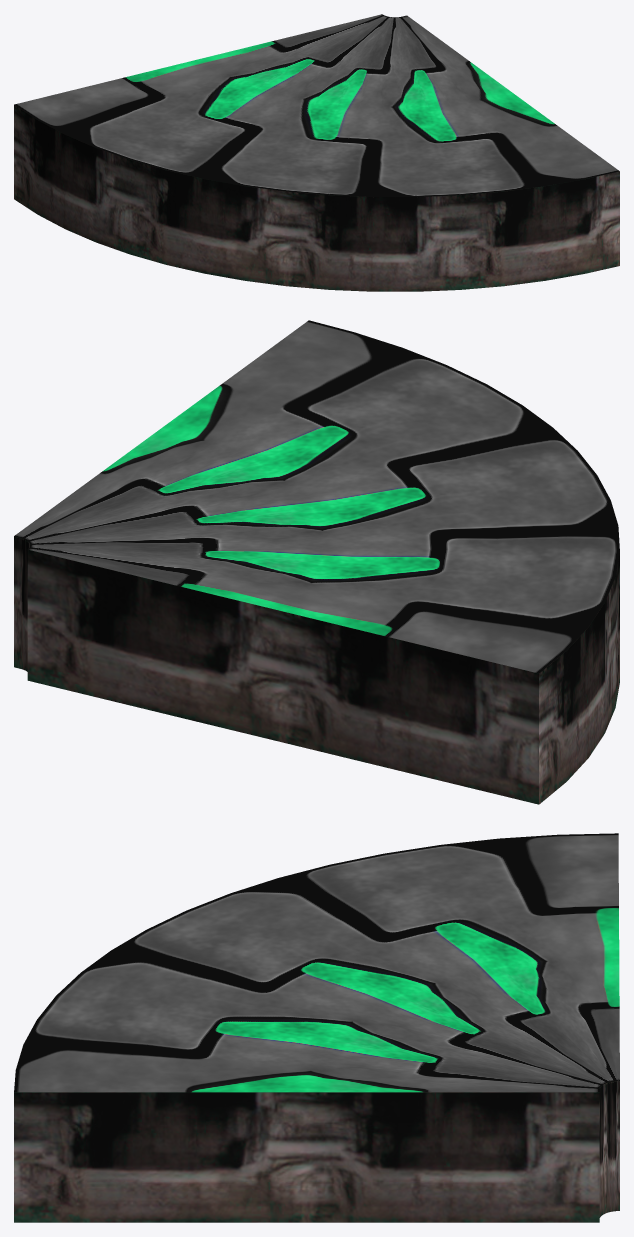
The model's file is belt-L.glb.
The picture shows the model from 3 angles, top to bottom: view 1: azimuth 30°, elevation 25°; view 2: azimuth 150°, elevation 25°; view 3: azimuth 270°, elevation 25°; orthographic projection. The views are drawn at different scales.
Parts seen in each view (by area): view 1: Cube; view 2: Cube; view 3: Cube.
Boxes of the visible parts, <box> form: Cube: <box>14,14,619,291</box>; Cube: <box>14,320,619,804</box>; Cube: <box>14,833,619,1222</box>.
Size of the model in its own units: 1.96 by 0.4586 by 1.94.
Materials: 2 (2 with a texture image).
